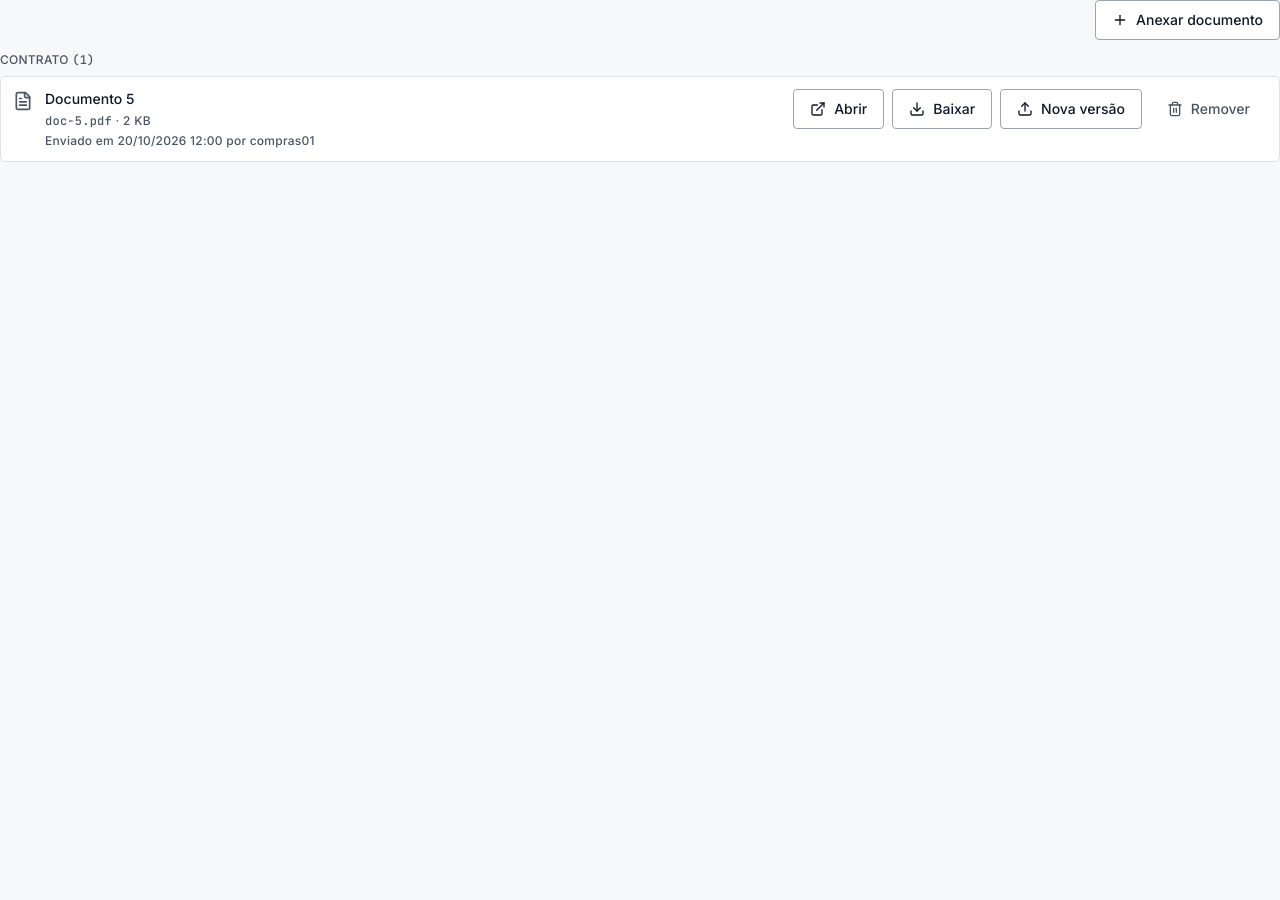
Test: AnexosDoRegistro › 409 ao remover mostra a mensagem da API
Click the button with aria-label "Remover Documento 5" at (1208, 109), box [1150,89,1267,129]
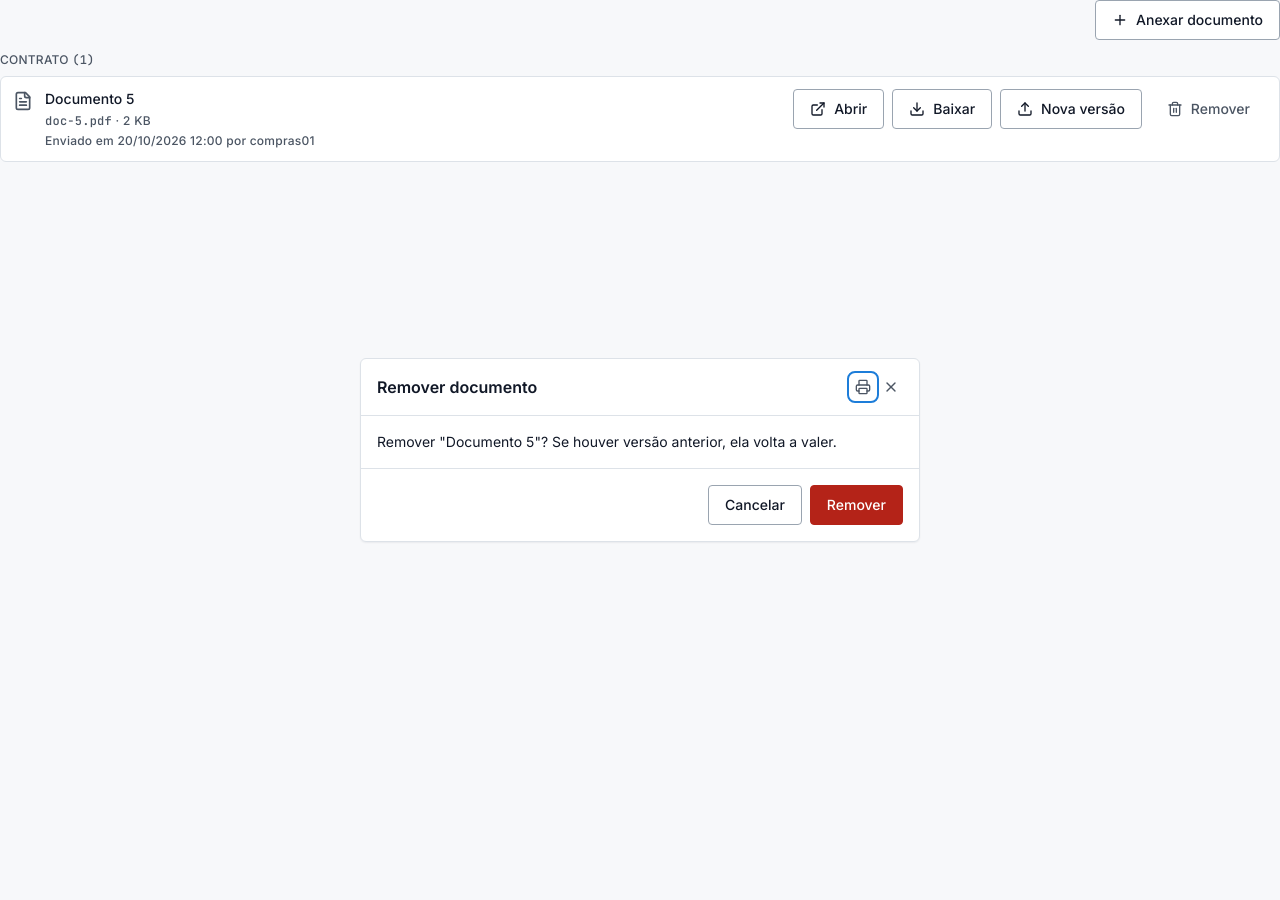
Click the button "Remover" at (856, 505), box [810,485,903,525]
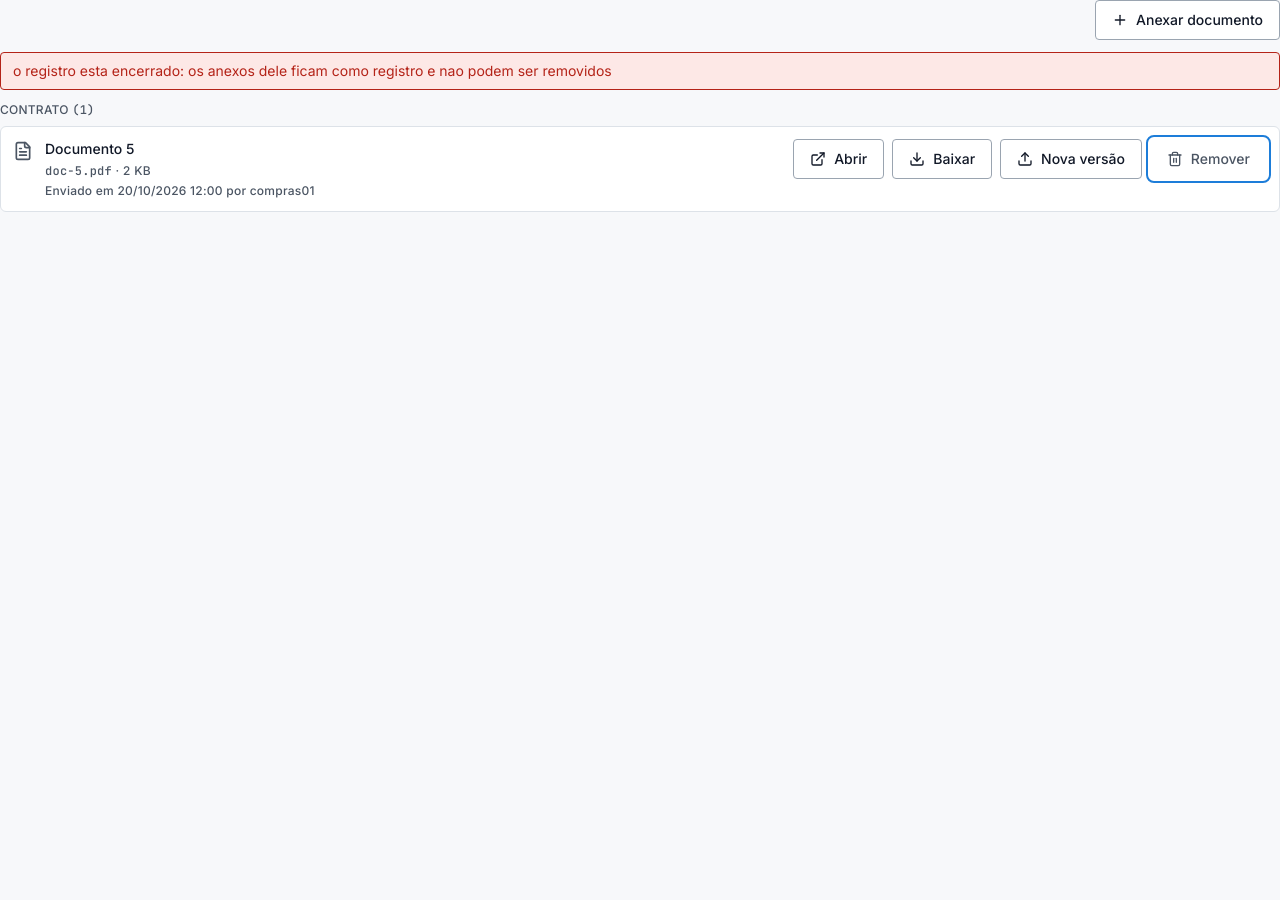
Expected: the message shows "o registro esta encerrado", [13,62,612,79]
